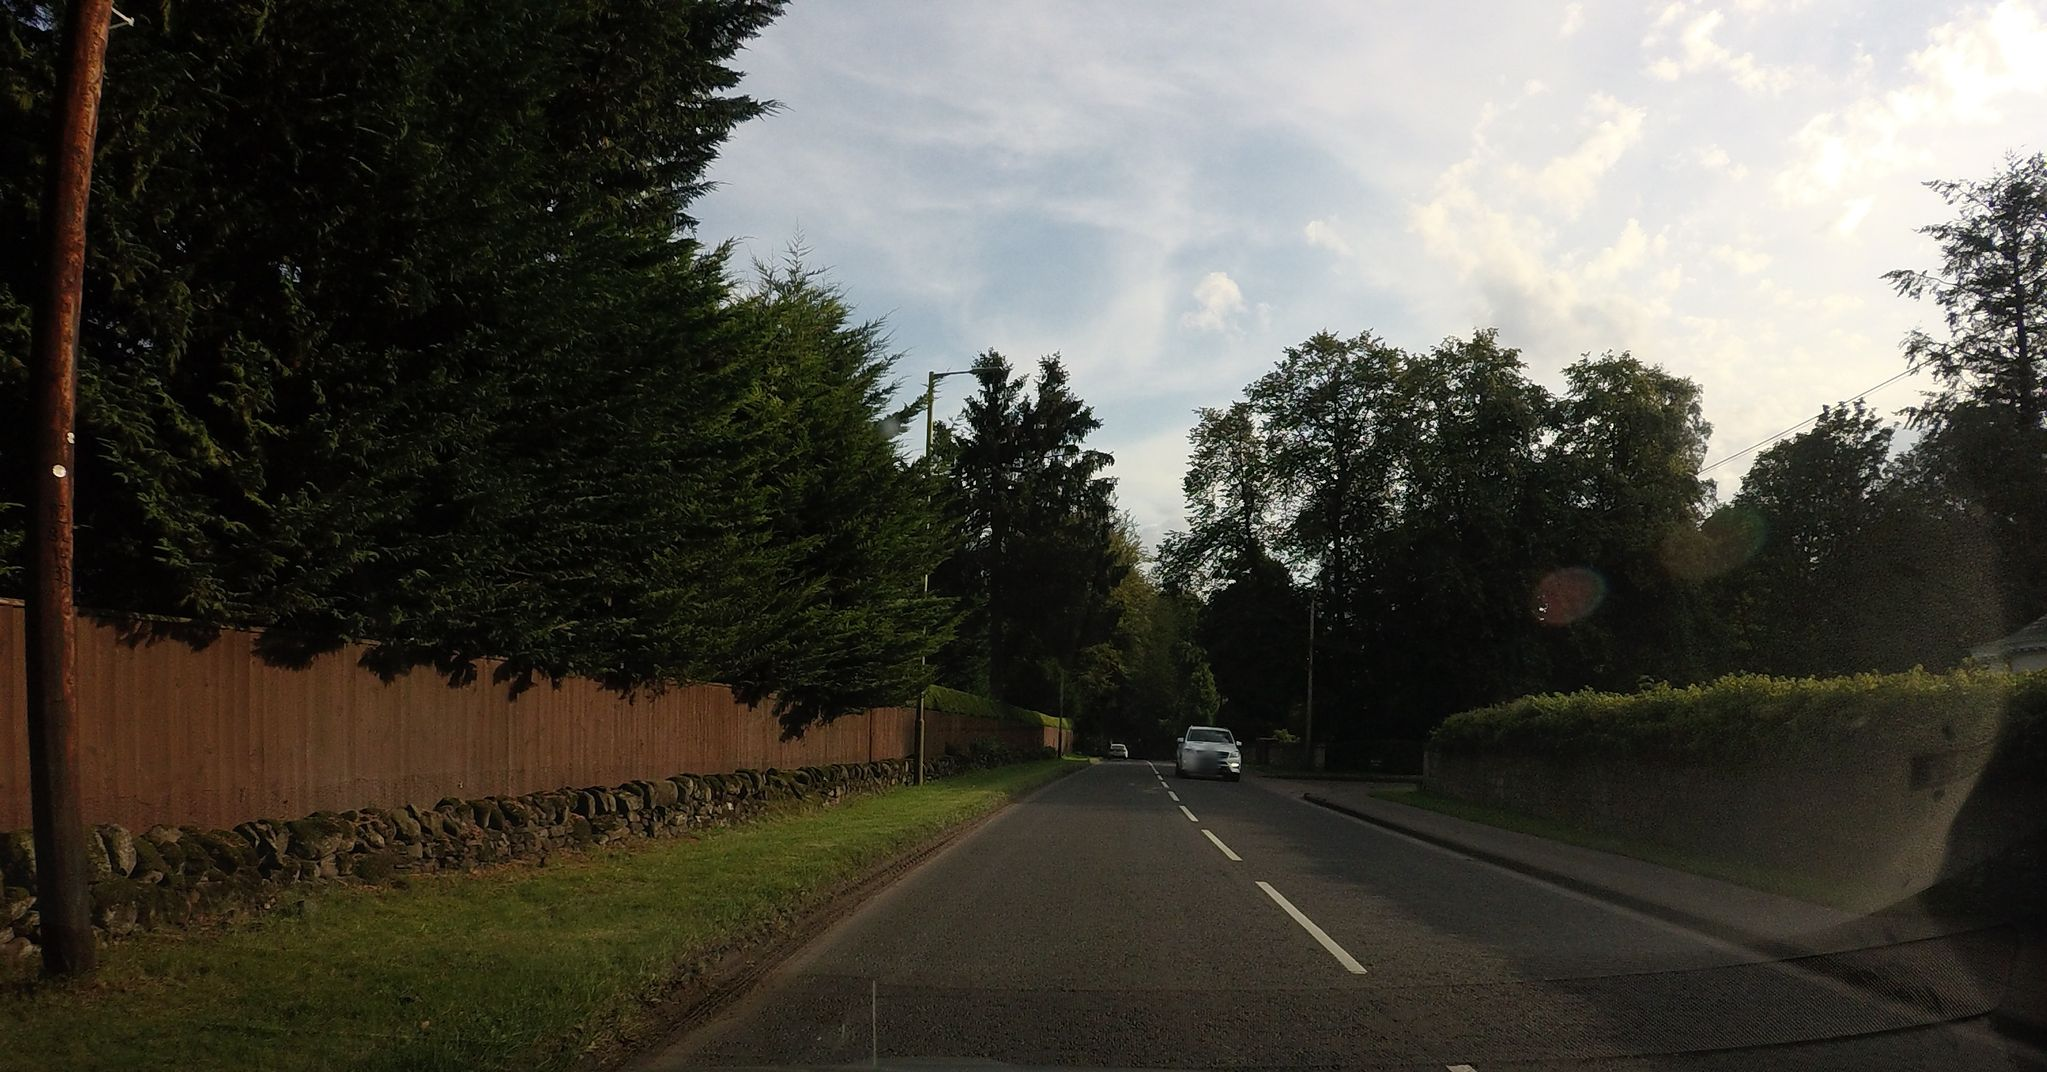car: (1175, 724, 1241, 780), (1109, 743, 1128, 759)
